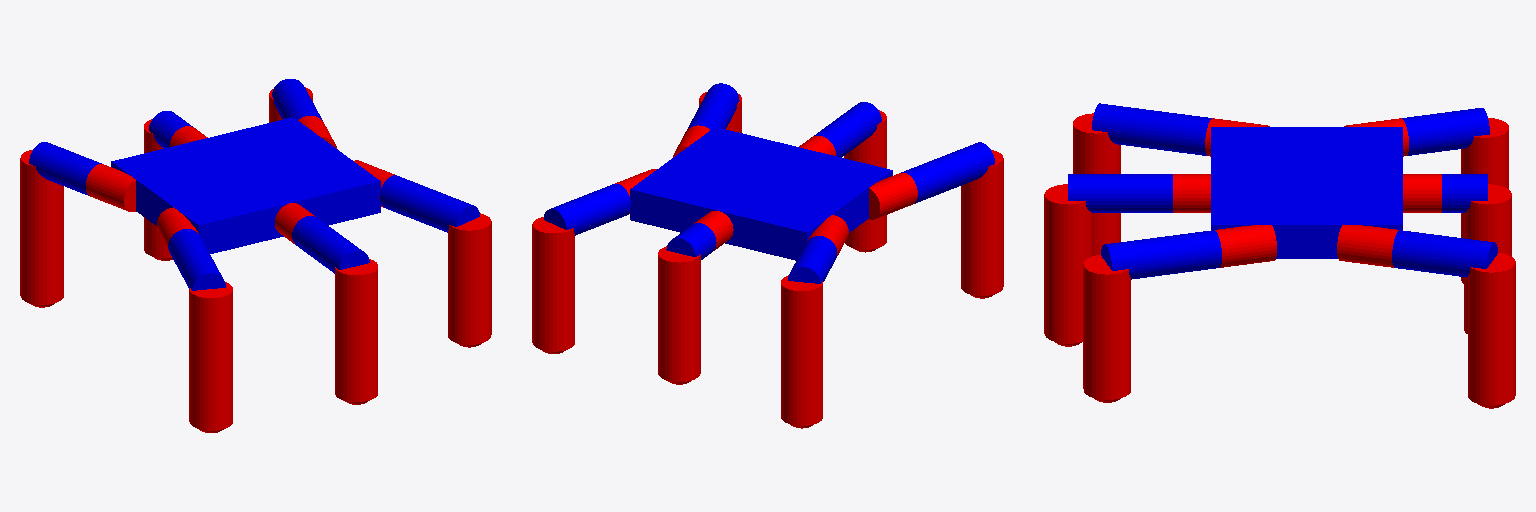
--- Render facts (derived) ---
The picture shows the robot from 3 angles, left to right: view 1: azimuth 30°, elevation 25°; view 2: azimuth 150°, elevation 25°; view 3: azimuth 270°, elevation 25°; orthographic projection.
Robot: pexod — 19 links, 18 joints (18 revolute); root link base_link; default pose: every joint at zero.
Visible links, largest first — view 1: base_link, leg_5_3, leg_4_3, leg_0_3, leg_3_3, leg_3_2, leg_4_2, leg_5_2, leg_0_2, leg_0_1, leg_2_2, leg_1_3 (+3 smaller); view 2: base_link, leg_0_3, leg_1_3, leg_2_3, leg_5_3, leg_5_2, leg_2_2, leg_4_3, leg_4_2, leg_5_1, leg_0_2, leg_3_2 (+3 smaller); view 3: base_link, leg_2_3, leg_3_3, leg_4_3, leg_3_2, leg_5_2, leg_4_2, leg_2_2, leg_5_3, leg_0_2, leg_1_3, leg_0_3 (+5 smaller).
Link boxes in pixels (box(x1,y1,x2,y2)): base_link: box(111, 117, 380, 253); leg_5_3: box(189, 282, 232, 432); leg_4_3: box(335, 259, 377, 404); leg_0_3: box(20, 150, 63, 307); leg_3_3: box(448, 213, 491, 347); leg_3_2: box(380, 175, 479, 232); leg_4_2: box(292, 216, 369, 273); leg_5_2: box(168, 229, 225, 290); leg_0_2: box(29, 142, 101, 195); leg_0_1: box(86, 164, 135, 211); leg_2_2: box(272, 79, 322, 120); leg_1_3: box(144, 119, 172, 260); base_link: box(630, 127, 892, 260); leg_0_3: box(781, 275, 822, 428); leg_1_3: box(658, 246, 700, 384); leg_2_3: box(532, 217, 574, 353); leg_5_3: box(961, 150, 1003, 298); leg_5_2: box(901, 142, 994, 203); leg_2_2: box(544, 184, 630, 235); leg_4_3: box(844, 110, 886, 252); leg_4_2: box(811, 102, 881, 157); leg_5_1: box(869, 173, 917, 219); leg_0_2: box(788, 236, 836, 283); leg_3_2: box(685, 83, 739, 132); base_link: box(1211, 127, 1402, 258); leg_2_3: box(1468, 253, 1515, 408); leg_3_3: box(1083, 255, 1130, 402); leg_4_3: box(1044, 184, 1092, 346); leg_3_2: box(1101, 230, 1221, 279); leg_5_2: box(1092, 103, 1211, 155); leg_4_2: box(1068, 174, 1172, 212); leg_2_2: box(1392, 230, 1497, 277); leg_5_3: box(1073, 113, 1120, 255); leg_0_2: box(1402, 108, 1489, 155); leg_1_3: box(1464, 184, 1511, 333); leg_0_3: box(1461, 118, 1508, 283).
Bounding box of the posed robot: 0.397 × 0.4903 × 0.2066 m (x, y, z).
Geometry: primitives only (box / cylinder / sphere), no mesh files.

robot.urdf — pexod:
<?xml version="1.0" ?>
<!-- =================================================================================== -->
<!-- |    This document was autogenerated by xacro from pexod.xacro                    | -->
<!-- |    EDITING THIS FILE BY HAND IS NOT RECOMMENDED                                 | -->
<!-- =================================================================================== -->
<robot name="pexod" xmlns:xacro="http://www.ros.org/wiki/xacro">
  <!-- <xacro:include filename="$(find pexod_description)/urdf/pexod_control.xacro" /> -->
  <!-- MATERIALS -->
  <material name="Blue">
    <color rgba="0 0 1 1"/>
  </material>
  <material name="Red">
    <color rgba="1 0 0 1"/>
  </material>
  <material name="Green">
    <color rgba="0 1 0 1"/>
  </material>
  <material name="Yellow">
    <color rgba="1 1 0 1"/>
  </material>
  <material name="LightGrey">
    <color rgba="0.6 0.6 0.6 1.0"/>
  </material>
  <!-- END OF MATERIALS -->
  <!-- XACRO MACROS FOR VISUALS AND COLLISIONS -->
  <!-- END OF XACRO MACROS -->
  <!-- TORSO -->
  <link name="base_link">
    <visual>
      <origin rpy="0 0 0" xyz="0 0 0"/>
      <geometry>
        <box size="0.24 0.2 0.04"/>
      </geometry>
      <material name="Blue"/>
    </visual>
    <collision>
      <origin rpy="0 0 0" xyz="0 0 0"/>
      <geometry>
        <box size="0.24 0.2 0.04"/>
      </geometry>
    </collision>
    <inertial>
      <!-- CENTER OF MASS -->
      <origin rpy="0 0 0" xyz="0 0 0"/>
      <mass value="1.031"/>
      <!-- box inertia: 1/12*m(y^2+z^2), ... -->
      <inertia ixx="0.00357413333333" ixy="0" ixz="0" iyy="0.00508626666667" iyz="0" izz="0.00838546666667"/>
    </inertial>
  </link>
  <!-- XACRO MACRO FOR LEGS LINKS/JOINTS -->
  <!-- END OF LEG LINKS/JOINTS -->
  <joint name="body_leg_2" type="revolute">
    <parent link="base_link"/>
    <child link="leg_2_1"/>
    <limit effort="30.0" lower="-1.57079632679" upper="1.57079632679" velocity="7.0"/>
    <origin rpy="0 0 -0.3" xyz="0.11 0.04 0"/>
    <!-- <xacro:if value="${index == 5 or index == 4 or index == 3}">
                <axis xyz="0 0 1"/>
            </xacro:if>
            <xacro:if value="${index == 2 or index == 1 or index == 0}"> -->
    <axis xyz="0 0 1"/>
    <!-- </xacro:if> -->
    <dynamics damping="0.0"/>
  </joint>
  <link name="leg_2_1">
    <visual>
      <origin rpy="1.57079632679 0 0" xyz="0.01 0.03 0"/>
      <geometry>
        <cylinder length="0.06" radius="0.02"/>
      </geometry>
      <material name="Red"/>
    </visual>
    <collision>
      <origin rpy="1.57079632679 0 0" xyz="0.01 0.03 0"/>
      <geometry>
        <box size="0.02 0.02 0.06"/>
      </geometry>
    </collision>
    <inertial>
      <!-- CENTER OF MASS -->
      <origin rpy="1.57079632679 0 0" xyz="0.01 0.03 0"/>
      <mass value="0.02"/>
      <!-- box inertia: 1/12*m(y^2+z^2), ... -->
      <inertia ixx="6.66666666667e-06" ixy="0" ixz="0" iyy="6.66666666667e-06" iyz="0" izz="1.33333333333e-06"/>
    </inertial>
  </link>
  <joint name="leg_2_1_2" type="revolute">
    <parent link="leg_2_1"/>
    <child link="leg_2_2"/>
    <limit effort="30.0" lower="-0.78539816339" upper="0.78539816339" velocity="7.0"/>
    <origin rpy="0 0 0" xyz="0 0.06 0"/>
    <axis xyz="1 0 0"/>
    <dynamics damping="0.0"/>
  </joint>
  <link name="leg_2_2">
    <visual>
      <origin rpy="1.57079632679 0 0" xyz="0.01 0.0515014072695 0"/>
      <geometry>
        <cylinder length="0.103002814539" radius="0.02"/>
      </geometry>
      <material name="Blue"/>
    </visual>
    <collision>
      <origin rpy="1.57079632679 0 0" xyz="0.01 0.0515014072695 0"/>
      <geometry>
        <box size="0.02 0.02 0.103002814539"/>
      </geometry>
    </collision>
    <inertial>
      <!-- CENTER OF MASS -->
      <origin rpy="1.57079632679 0 0" xyz="0.01 0.0515014072695 0"/>
      <mass value="0.184"/>
      <!-- box inertia: 1/12*m(y^2+z^2), ... -->
      <inertia ixx="0.000168813556979" ixy="0" ixz="0" iyy="0.000168813556979" iyz="0" izz="1.22666666667e-05"/>
    </inertial>
  </link>
  <joint name="leg_2_2_3" type="revolute">
    <parent link="leg_2_2"/>
    <child link="leg_2_3"/>
    <limit effort="30.0" lower="-0.78539816339" upper="0.78539816339" velocity="7.0"/>
    <origin rpy="-1.57079632679 0 0" xyz="0 0.103002814539 0"/>
    <axis xyz="-1 0 0"/>
    <dynamics damping="0.0"/>
  </joint>
  <link name="leg_2_3">
    <visual>
      <origin rpy="1.57079632679 0 0" xyz="0.0125 0.0764224755975 0"/>
      <geometry>
        <cylinder length="0.152844951195" radius="0.025"/>
      </geometry>
      <material name="Red"/>
    </visual>
    <visual>
      <origin rpy="1.57079632679 0 0" xyz="0.0125 0.140344951195 0"/>
      <geometry>
        <sphere radius="0.025"/>
      </geometry>
      <material name="Red"/>
    </visual>
    <collision>
      <origin rpy="1.57079632679 0 0" xyz="0.0125 0.0764224755975 0"/>
      <geometry>
        <box size="0.025 0.025 0.152844951195"/>
      </geometry>
    </collision>
    <collision>
      <origin rpy="1.57079632679 0 0" xyz="0.0125 0.140344951195 0"/>
      <geometry>
        <sphere radius="0.025"/>
      </geometry>
      <material name="Red"/>
    </collision>
    <inertial>
      <!-- CENTER OF MASS -->
      <origin rpy="1.57079632679 0 0" xyz="0.0125 0.0764224755975 0"/>
      <mass value="0.04"/>
      <!-- box inertia: 1/12*m(y^2+z^2), ... -->
      <inertia ixx="7.9955263686e-05" ixy="0" ixz="0" iyy="7.9955263686e-05" iyz="0" izz="4.16666666667e-06"/>
    </inertial>
  </link>
  <joint name="body_leg_3" type="revolute">
    <parent link="base_link"/>
    <child link="leg_3_1"/>
    <limit effort="30.0" lower="-1.57079632679" upper="1.57079632679" velocity="7.0"/>
    <origin rpy="0 0 0.3" xyz="0.11 -0.04 0"/>
    <!-- <xacro:if value="${index == 5 or index == 4 or index == 3}">
                <axis xyz="0 0 1"/>
            </xacro:if>
            <xacro:if value="${index == 2 or index == 1 or index == 0}"> -->
    <axis xyz="0 0 1"/>
    <!-- </xacro:if> -->
    <dynamics damping="0.0"/>
  </joint>
  <link name="leg_3_1">
    <visual>
      <origin rpy="1.57079632679 0 0" xyz="0.01 -0.03 0"/>
      <geometry>
        <cylinder length="0.06" radius="0.02"/>
      </geometry>
      <material name="Red"/>
    </visual>
    <collision>
      <origin rpy="1.57079632679 0 0" xyz="0.01 -0.03 0"/>
      <geometry>
        <box size="0.02 0.02 0.06"/>
      </geometry>
    </collision>
    <inertial>
      <!-- CENTER OF MASS -->
      <origin rpy="1.57079632679 0 0" xyz="0.01 -0.03 0"/>
      <mass value="0.02"/>
      <!-- box inertia: 1/12*m(y^2+z^2), ... -->
      <inertia ixx="6.66666666667e-06" ixy="0" ixz="0" iyy="6.66666666667e-06" iyz="0" izz="1.33333333333e-06"/>
    </inertial>
  </link>
  <joint name="leg_3_1_2" type="revolute">
    <parent link="leg_3_1"/>
    <child link="leg_3_2"/>
    <limit effort="30.0" lower="-0.78539816339" upper="0.78539816339" velocity="7.0"/>
    <origin rpy="0 0 0" xyz="0 -0.06 0"/>
    <axis xyz="-1 0 0"/>
    <dynamics damping="0.0"/>
  </joint>
  <link name="leg_3_2">
    <visual>
      <origin rpy="1.57079632679 0 0" xyz="0.01 -0.0597797452375 0"/>
      <geometry>
        <cylinder length="0.119559490475" radius="0.02"/>
      </geometry>
      <material name="Blue"/>
    </visual>
    <collision>
      <origin rpy="1.57079632679 0 0" xyz="0.01 -0.0597797452375 0"/>
      <geometry>
        <box size="0.02 0.02 0.119559490475"/>
      </geometry>
    </collision>
    <inertial>
      <!-- CENTER OF MASS -->
      <origin rpy="1.57079632679 0 0" xyz="0.01 -0.0597797452375 0"/>
      <mass value="0.184"/>
      <!-- box inertia: 1/12*m(y^2+z^2), ... -->
      <inertia ixx="0.000225315233694" ixy="0" ixz="0" iyy="0.000225315233694" iyz="0" izz="1.22666666667e-05"/>
    </inertial>
  </link>
  <joint name="leg_3_2_3" type="revolute">
    <parent link="leg_3_2"/>
    <child link="leg_3_3"/>
    <limit effort="30.0" lower="-0.78539816339" upper="0.78539816339" velocity="7.0"/>
    <origin rpy="1.57079632679 0 0" xyz="0 -0.119559490475 0"/>
    <axis xyz="1 0 0"/>
    <dynamics damping="0.0"/>
  </joint>
  <link name="leg_3_3">
    <visual>
      <origin rpy="1.57079632679 0 0" xyz="0.0125 -0.072036731449 0"/>
      <geometry>
        <cylinder length="0.144073462898" radius="0.025"/>
      </geometry>
      <material name="Red"/>
    </visual>
    <visual>
      <origin rpy="1.57079632679 0 0" xyz="0.0125 -0.131573462898 0"/>
      <geometry>
        <sphere radius="0.025"/>
      </geometry>
      <material name="Red"/>
    </visual>
    <collision>
      <origin rpy="1.57079632679 0 0" xyz="0.0125 -0.072036731449 0"/>
      <geometry>
        <box size="0.025 0.025 0.144073462898"/>
      </geometry>
    </collision>
    <collision>
      <origin rpy="1.57079632679 0 0" xyz="0.0125 -0.131573462898 0"/>
      <geometry>
        <sphere radius="0.025"/>
      </geometry>
      <material name="Red"/>
    </collision>
    <inertial>
      <!-- CENTER OF MASS -->
      <origin rpy="1.57079632679 0 0" xyz="0.0125 -0.072036731449 0"/>
      <mass value="0.04"/>
      <!-- box inertia: 1/12*m(y^2+z^2), ... -->
      <inertia ixx="7.12738757047e-05" ixy="0" ixz="0" iyy="7.12738757047e-05" iyz="0" izz="4.16666666667e-06"/>
    </inertial>
  </link>
  <joint name="body_leg_0" type="revolute">
    <parent link="base_link"/>
    <child link="leg_0_1"/>
    <limit effort="30.0" lower="-1.57079632679" upper="1.57079632679" velocity="7.0"/>
    <origin rpy="0 0 0.3" xyz="-0.13 0.04 0"/>
    <!-- <xacro:if value="${index == 5 or index == 4 or index == 3}">
                <axis xyz="0 0 1"/>
            </xacro:if>
            <xacro:if value="${index == 2 or index == 1 or index == 0}"> -->
    <axis xyz="0 0 1"/>
    <!-- </xacro:if> -->
    <dynamics damping="0.0"/>
  </joint>
  <link name="leg_0_1">
    <visual>
      <origin rpy="1.57079632679 0 0" xyz="0.01 0.03 0"/>
      <geometry>
        <cylinder length="0.06" radius="0.02"/>
      </geometry>
      <material name="Red"/>
    </visual>
    <collision>
      <origin rpy="1.57079632679 0 0" xyz="0.01 0.03 0"/>
      <geometry>
        <box size="0.02 0.02 0.06"/>
      </geometry>
    </collision>
    <inertial>
      <!-- CENTER OF MASS -->
      <origin rpy="1.57079632679 0 0" xyz="0.01 0.03 0"/>
      <mass value="0.02"/>
      <!-- box inertia: 1/12*m(y^2+z^2), ... -->
      <inertia ixx="6.66666666667e-06" ixy="0" ixz="0" iyy="6.66666666667e-06" iyz="0" izz="1.33333333333e-06"/>
    </inertial>
  </link>
  <joint name="leg_0_1_2" type="revolute">
    <parent link="leg_0_1"/>
    <child link="leg_0_2"/>
    <limit effort="30.0" lower="-0.78539816339" upper="0.78539816339" velocity="7.0"/>
    <origin rpy="0 0 0" xyz="0 0.06 0"/>
    <axis xyz="1 0 0"/>
    <dynamics damping="0.0"/>
  </joint>
  <link name="leg_0_2">
    <visual>
      <origin rpy="1.57079632679 0 0" xyz="0.01 0.0441108071751 0"/>
      <geometry>
        <cylinder length="0.0882216143502" radius="0.02"/>
      </geometry>
      <material name="Blue"/>
    </visual>
    <collision>
      <origin rpy="1.57079632679 0 0" xyz="0.01 0.0441108071751 0"/>
      <geometry>
        <box size="0.02 0.02 0.0882216143502"/>
      </geometry>
    </collision>
    <inertial>
      <!-- CENTER OF MASS -->
      <origin rpy="1.57079632679 0 0" xyz="0.01 0.0441108071751 0"/>
      <mass value="0.184"/>
      <!-- box inertia: 1/12*m(y^2+z^2), ... -->
      <inertia ixx="0.000125473482991" ixy="0" ixz="0" iyy="0.000125473482991" iyz="0" izz="1.22666666667e-05"/>
    </inertial>
  </link>
  <joint name="leg_0_2_3" type="revolute">
    <parent link="leg_0_2"/>
    <child link="leg_0_3"/>
    <limit effort="30.0" lower="-0.78539816339" upper="0.78539816339" velocity="7.0"/>
    <origin rpy="-1.57079632679 0 0" xyz="0 0.0882216143502 0"/>
    <axis xyz="-1 0 0"/>
    <dynamics damping="0.0"/>
  </joint>
  <link name="leg_0_3">
    <visual>
      <origin rpy="1.57079632679 0 0" xyz="0.0125 0.087032765989 0"/>
      <geometry>
        <cylinder length="0.174065531978" radius="0.025"/>
      </geometry>
      <material name="Red"/>
    </visual>
    <visual>
      <origin rpy="1.57079632679 0 0" xyz="0.0125 0.161565531978 0"/>
      <geometry>
        <sphere radius="0.025"/>
      </geometry>
      <material name="Red"/>
    </visual>
    <collision>
      <origin rpy="1.57079632679 0 0" xyz="0.0125 0.087032765989 0"/>
      <geometry>
        <box size="0.025 0.025 0.174065531978"/>
      </geometry>
    </collision>
    <collision>
      <origin rpy="1.57079632679 0 0" xyz="0.0125 0.161565531978 0"/>
      <geometry>
        <sphere radius="0.025"/>
      </geometry>
      <material name="Red"/>
    </collision>
    <inertial>
      <!-- CENTER OF MASS -->
      <origin rpy="1.57079632679 0 0" xyz="0.0125 0.087032765989 0"/>
      <mass value="0.04"/>
      <!-- box inertia: 1/12*m(y^2+z^2), ... -->
      <inertia ixx="0.000103079364743" ixy="0" ixz="0" iyy="0.000103079364743" iyz="0" izz="4.16666666667e-06"/>
    </inertial>
  </link>
  <joint name="body_leg_5" type="revolute">
    <parent link="base_link"/>
    <child link="leg_5_1"/>
    <limit effort="30.0" lower="-1.57079632679" upper="1.57079632679" velocity="7.0"/>
    <origin rpy="0 0 -0.3" xyz="-0.13 -0.04 0"/>
    <!-- <xacro:if value="${index == 5 or index == 4 or index == 3}">
                <axis xyz="0 0 1"/>
            </xacro:if>
            <xacro:if value="${index == 2 or index == 1 or index == 0}"> -->
    <axis xyz="0 0 1"/>
    <!-- </xacro:if> -->
    <dynamics damping="0.0"/>
  </joint>
  <link name="leg_5_1">
    <visual>
      <origin rpy="1.57079632679 0 0" xyz="0.01 -0.03 0"/>
      <geometry>
        <cylinder length="0.06" radius="0.02"/>
      </geometry>
      <material name="Red"/>
    </visual>
    <collision>
      <origin rpy="1.57079632679 0 0" xyz="0.01 -0.03 0"/>
      <geometry>
        <box size="0.02 0.02 0.06"/>
      </geometry>
    </collision>
    <inertial>
      <!-- CENTER OF MASS -->
      <origin rpy="1.57079632679 0 0" xyz="0.01 -0.03 0"/>
      <mass value="0.02"/>
      <!-- box inertia: 1/12*m(y^2+z^2), ... -->
      <inertia ixx="6.66666666667e-06" ixy="0" ixz="0" iyy="6.66666666667e-06" iyz="0" izz="1.33333333333e-06"/>
    </inertial>
  </link>
  <joint name="leg_5_1_2" type="revolute">
    <parent link="leg_5_1"/>
    <child link="leg_5_2"/>
    <limit effort="30.0" lower="-0.78539816339" upper="0.78539816339" velocity="7.0"/>
    <origin rpy="0 0 0" xyz="0 -0.06 0"/>
    <axis xyz="-1 0 0"/>
    <dynamics damping="0.0"/>
  </joint>
  <link name="leg_5_2">
    <visual>
      <origin rpy="1.57079632679 0 0" xyz="0.01 -0.0617047248815 0"/>
      <geometry>
        <cylinder length="0.123409449763" radius="0.02"/>
      </geometry>
      <material name="Blue"/>
    </visual>
    <collision>
      <origin rpy="1.57079632679 0 0" xyz="0.01 -0.0617047248815 0"/>
      <geometry>
        <box size="0.02 0.02 0.123409449763"/>
      </geometry>
    </collision>
    <inertial>
      <!-- CENTER OF MASS -->
      <origin rpy="1.57079632679 0 0" xyz="0.01 -0.0617047248815 0"/>
      <mass value="0.184"/>
      <!-- box inertia: 1/12*m(y^2+z^2), ... -->
      <inertia ixx="0.000239658348459" ixy="0" ixz="0" iyy="0.000239658348459" iyz="0" izz="1.22666666667e-05"/>
    </inertial>
  </link>
  <joint name="leg_5_2_3" type="revolute">
    <parent link="leg_5_2"/>
    <child link="leg_5_3"/>
    <limit effort="30.0" lower="-0.78539816339" upper="0.78539816339" velocity="7.0"/>
    <origin rpy="1.57079632679 0 0" xyz="0 -0.123409449763 0"/>
    <axis xyz="1 0 0"/>
    <dynamics damping="0.0"/>
  </joint>
  <link name="leg_5_3">
    <visual>
      <origin rpy="1.57079632679 0 0" xyz="0.0125 -0.0834714311865 0"/>
      <geometry>
        <cylinder length="0.166942862373" radius="0.025"/>
      </geometry>
      <material name="Red"/>
    </visual>
    <visual>
      <origin rpy="1.57079632679 0 0" xyz="0.0125 -0.154442862373 0"/>
      <geometry>
        <sphere radius="0.025"/>
      </geometry>
      <material name="Red"/>
    </visual>
    <collision>
      <origin rpy="1.57079632679 0 0" xyz="0.0125 -0.0834714311865 0"/>
      <geometry>
        <box size="0.025 0.025 0.166942862373"/>
      </geometry>
    </collision>
    <collision>
      <origin rpy="1.57079632679 0 0" xyz="0.0125 -0.154442862373 0"/>
      <geometry>
        <sphere radius="0.025"/>
      </geometry>
      <material name="Red"/>
    </collision>
    <inertial>
      <!-- CENTER OF MASS -->
      <origin rpy="1.57079632679 0 0" xyz="0.0125 -0.0834714311865 0"/>
      <mass value="0.04"/>
      <!-- box inertia: 1/12*m(y^2+z^2), ... -->
      <inertia ixx="9.49830643243e-05" ixy="0" ixz="0" iyy="9.49830643243e-05" iyz="0" izz="4.16666666667e-06"/>
    </inertial>
  </link>
  <joint name="body_leg_1" type="revolute">
    <parent link="base_link"/>
    <child link="leg_1_1"/>
    <limit effort="30.0" lower="-1.57079632679" upper="1.57079632679" velocity="7.0"/>
    <origin rpy="0 0 0" xyz="-0.01 0.08 0"/>
    <!-- <xacro:if value="${index == 5 or index == 4 or index == 3}">
                <axis xyz="0 0 1"/>
            </xacro:if>
            <xacro:if value="${index == 2 or index == 1 or index == 0}"> -->
    <axis xyz="0 0 1"/>
    <!-- </xacro:if> -->
    <dynamics damping="0.0"/>
  </joint>
  <link name="leg_1_1">
    <visual>
      <origin rpy="1.57079632679 0 0" xyz="0.01 0.03 0"/>
      <geometry>
        <cylinder length="0.06" radius="0.02"/>
      </geometry>
      <material name="Red"/>
    </visual>
    <collision>
      <origin rpy="1.57079632679 0 0" xyz="0.01 0.03 0"/>
      <geometry>
        <box size="0.02 0.02 0.06"/>
      </geometry>
    </collision>
    <inertial>
      <!-- CENTER OF MASS -->
      <origin rpy="1.57079632679 0 0" xyz="0.01 0.03 0"/>
      <mass value="0.02"/>
      <!-- box inertia: 1/12*m(y^2+z^2), ... -->
      <inertia ixx="6.66666666667e-06" ixy="0" ixz="0" iyy="6.66666666667e-06" iyz="0" izz="1.33333333333e-06"/>
    </inertial>
  </link>
  <joint name="leg_1_1_2" type="revolute">
    <parent link="leg_1_1"/>
    <child link="leg_1_2"/>
    <limit effort="30.0" lower="-0.78539816339" upper="0.78539816339" velocity="7.0"/>
    <origin rpy="0 0 0" xyz="0 0.06 0"/>
    <axis xyz="1 0 0"/>
    <dynamics damping="0.0"/>
  </joint>
  <link name="leg_1_2">
    <visual>
      <origin rpy="1.57079632679 0 0" xyz="0.01 0.0240775614292 0"/>
      <geometry>
        <cylinder length="0.0481551228584" radius="0.02"/>
      </geometry>
      <material name="Blue"/>
    </visual>
    <collision>
      <origin rpy="1.57079632679 0 0" xyz="0.01 0.0240775614292 0"/>
      <geometry>
        <box size="0.02 0.02 0.0481551228584"/>
      </geometry>
    </collision>
    <inertial>
      <!-- CENTER OF MASS -->
      <origin rpy="1.57079632679 0 0" xyz="0.01 0.0240775614292 0"/>
      <mass value="0.184"/>
      <!-- box inertia: 1/12*m(y^2+z^2), ... -->
      <inertia ixx="4.16900431484e-05" ixy="0" ixz="0" iyy="4.16900431484e-05" iyz="0" izz="1.22666666667e-05"/>
    </inertial>
  </link>
  <joint name="leg_1_2_3" type="revolute">
    <parent link="leg_1_2"/>
    <child link="leg_1_3"/>
    <limit effort="30.0" lower="-0.78539816339" upper="0.78539816339" velocity="7.0"/>
    <origin rpy="-1.57079632679 0 0" xyz="0 0.0481551228584 0"/>
    <axis xyz="-1 0 0"/>
    <dynamics damping="0.0"/>
  </joint>
  <link name="leg_1_3">
    <visual>
      <origin rpy="1.57079632679 0 0" xyz="0.0125 0.077365346076 0"/>
      <geometry>
        <cylinder length="0.154730692152" radius="0.025"/>
      </geometry>
      <material name="Red"/>
    </visual>
    <visual>
      <origin rpy="1.57079632679 0 0" xyz="0.0125 0.142230692152 0"/>
      <geometry>
        <sphere radius="0.025"/>
      </geometry>
      <material name="Red"/>
    </visual>
    <collision>
      <origin rpy="1.57079632679 0 0" xyz="0.0125 0.077365346076 0"/>
      <geometry>
        <box size="0.025 0.025 0.154730692152"/>
      </geometry>
    </collision>
    <collision>
      <origin rpy="1.57079632679 0 0" xyz="0.0125 0.142230692152 0"/>
      <geometry>
        <sphere radius="0.025"/>
      </geometry>
      <material name="Red"/>
    </collision>
    <inertial>
      <!-- CENTER OF MASS -->
      <origin rpy="1.57079632679 0 0" xyz="0.0125 0.077365346076 0"/>
      <mass value="0.04"/>
      <!-- box inertia: 1/12*m(y^2+z^2), ... -->
      <inertia ixx="8.18886236461e-05" ixy="0" ixz="0" iyy="8.18886236461e-05" iyz="0" izz="4.16666666667e-06"/>
    </inertial>
  </link>
  <joint name="body_leg_4" type="revolute">
    <parent link="base_link"/>
    <child link="leg_4_1"/>
    <limit effort="30.0" lower="-1.57079632679" upper="1.57079632679" velocity="7.0"/>
    <origin rpy="0 0 0" xyz="-0.01 -0.08 0"/>
    <!-- <xacro:if value="${index == 5 or index == 4 or index == 3}">
                <axis xyz="0 0 1"/>
            </xacro:if>
            <xacro:if value="${index == 2 or index == 1 or index == 0}"> -->
    <axis xyz="0 0 1"/>
    <!-- </xacro:if> -->
    <dynamics damping="0.0"/>
  </joint>
  <link name="leg_4_1">
    <visual>
      <origin rpy="1.57079632679 0 0" xyz="0.01 -0.03 0"/>
      <geometry>
        <cylinder length="0.06" radius="0.02"/>
      </geometry>
      <material name="Red"/>
    </visual>
    <collision>
      <origin rpy="1.57079632679 0 0" xyz="0.01 -0.03 0"/>
      <geometry>
        <box size="0.02 0.02 0.06"/>
      </geometry>
    </collision>
    <inertial>
      <!-- CENTER OF MASS -->
      <origin rpy="1.57079632679 0 0" xyz="0.01 -0.03 0"/>
      <mass value="0.02"/>
      <!-- box inertia: 1/12*m(y^2+z^2), ... -->
      <inertia ixx="6.66666666667e-06" ixy="0" ixz="0" iyy="6.66666666667e-06" iyz="0" izz="1.33333333333e-06"/>
    </inertial>
  </link>
  <joint name="leg_4_1_2" type="revolute">
    <parent link="leg_4_1"/>
    <child link="leg_4_2"/>
    <limit effort="30.0" lower="-0.78539816339" upper="0.78539816339" velocity="7.0"/>
    <origin rpy="0 0 0" xyz="0 -0.06 0"/>
    <axis xyz="-1 0 0"/>
    <dynamics damping="0.0"/>
  </joint>
  <link name="leg_4_2">
    <visual>
      <origin rpy="1.57079632679 0 0" xyz="0.01 -0.0541755238595 0"/>
      <geometry>
        <cylinder length="0.108351047719" radius="0.02"/>
      </geometry>
      <material name="Blue"/>
    </visual>
    <collision>
      <origin rpy="1.57079632679 0 0" xyz="0.01 -0.0541755238595 0"/>
      <geometry>
        <box size="0.02 0.02 0.108351047719"/>
      </geometry>
    </collision>
    <inertial>
      <!-- CENTER OF MASS -->
      <origin rpy="1.57079632679 0 0" xyz="0.01 -0.0541755238595 0"/>
      <mass value="0.184"/>
      <!-- box inertia: 1/12*m(y^2+z^2), ... -->
      <inertia ixx="0.000186145892974" ixy="0" ixz="0" iyy="0.000186145892974" iyz="0" izz="1.22666666667e-05"/>
    </inertial>
  </link>
  <joint name="leg_4_2_3" type="revolute">
    <parent link="leg_4_2"/>
    <child link="leg_4_3"/>
    <limit effort="30.0" lower="-0.78539816339" upper="0.78539816339" velocity="7.0"/>
    <origin rpy="1.57079632679 0 0" xyz="0 -0.108351047719 0"/>
    <axis xyz="1 0 0"/>
    <dynamics damping="0.0"/>
  </joint>
  <link name="leg_4_3">
    <visual>
      <origin rpy="1.57079632679 0 0" xyz="0.0125 -0.079964589861 0"/>
      <geometry>
        <cylinder length="0.159929179722" radius="0.025"/>
      </geometry>
      <material name="Red"/>
    </visual>
    <visual>
      <origin rpy="1.57079632679 0 0" xyz="0.0125 -0.147429179722 0"/>
      <geometry>
        <sphere radius="0.025"/>
      </geometry>
      <material name="Red"/>
    </visual>
    <collision>
      <origin rpy="1.57079632679 0 0" xyz="0.0125 -0.079964589861 0"/>
      <geometry>
        <box size="0.025 0.025 0.159929179722"/>
      </geometry>
    </collision>
    <collision>
      <origin rpy="1.57079632679 0 0" xyz="0.0125 -0.147429179722 0"/>
      <geometry>
        <sphere radius="0.025"/>
      </geometry>
      <material name="Red"/>
    </collision>
    <inertial>
      <!-- CENTER OF MASS -->
      <origin rpy="1.57079632679 0 0" xyz="0.0125 -0.079964589861 0"/>
      <mass value="0.04"/>
      <!-- box inertia: 1/12*m(y^2+z^2), ... -->
      <inertia ixx="8.73411417552e-05" ixy="0" ixz="0" iyy="8.73411417552e-05" iyz="0" izz="4.16666666667e-06"/>
    </inertial>
  </link>
  <!-- END OF LEG LINKS/JOINTS -->
</robot>
